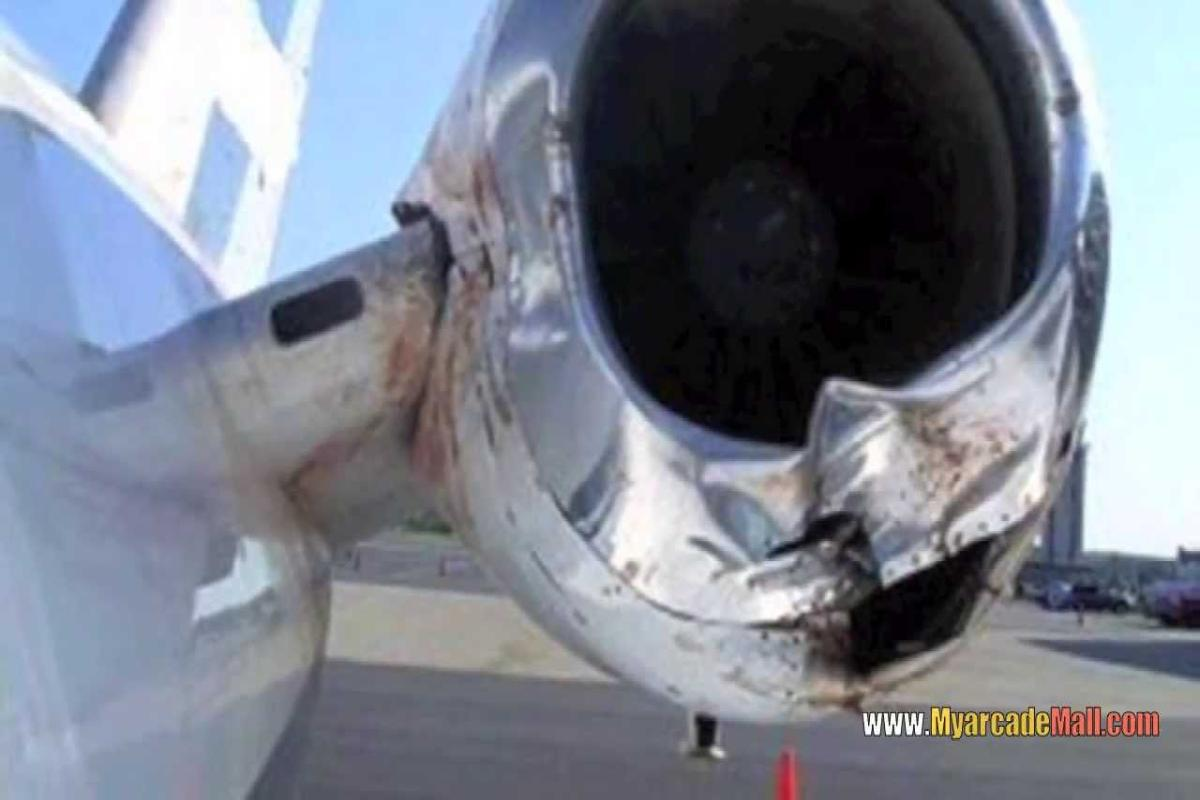Fuselage_damage: (706, 163, 1115, 703), (373, 64, 569, 450)
